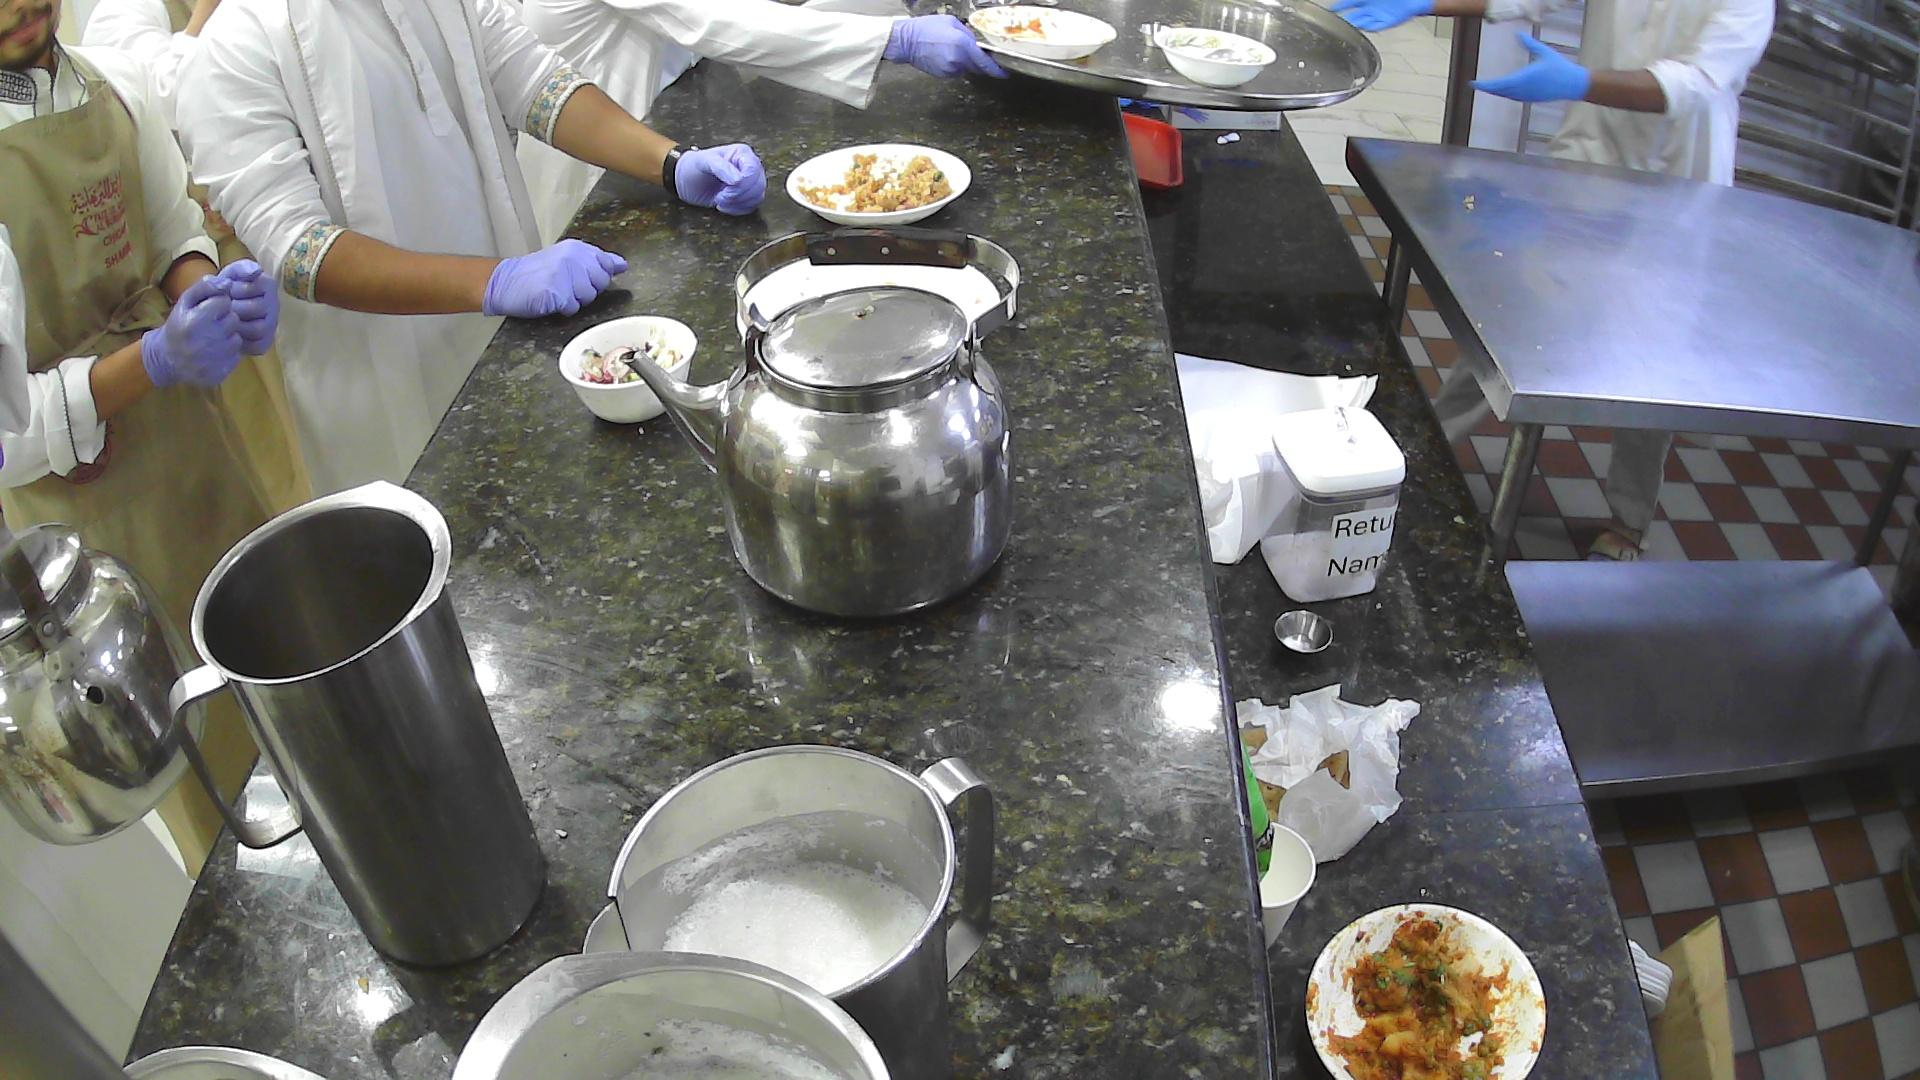thaal: (898, 0, 1385, 113)
